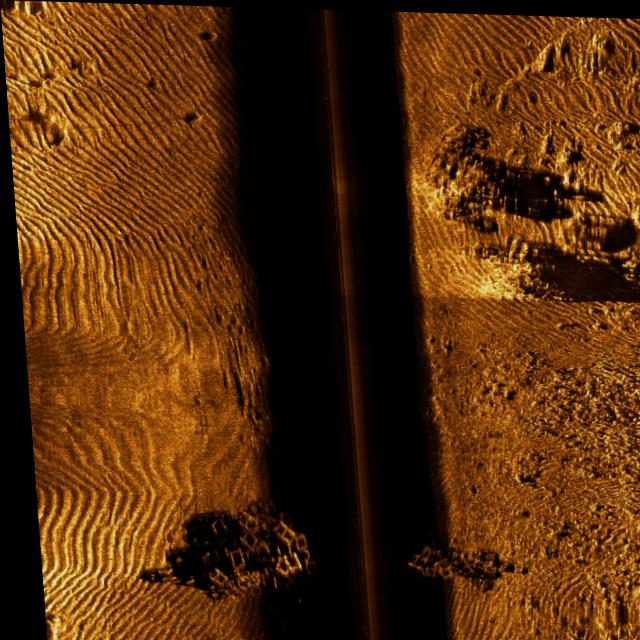artificial reef: (170, 472, 314, 608), (388, 523, 511, 602)
